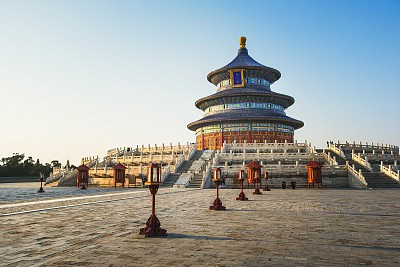Heaven: (187, 35, 305, 153)
